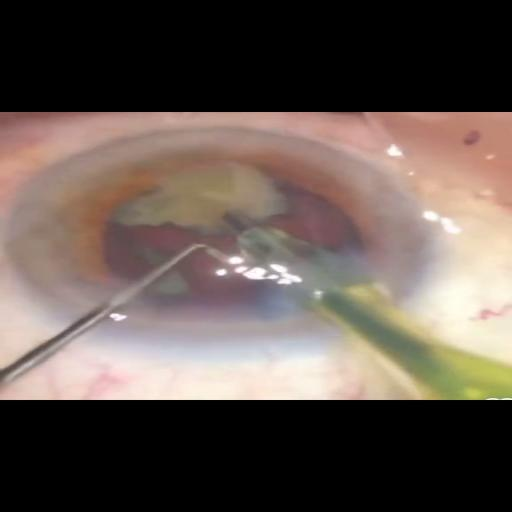catarata: (100, 177, 346, 328)
cornea: (18, 127, 430, 349)
pupil: (63, 159, 384, 328)
